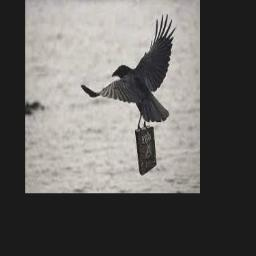Crow: (81, 13, 176, 129)
